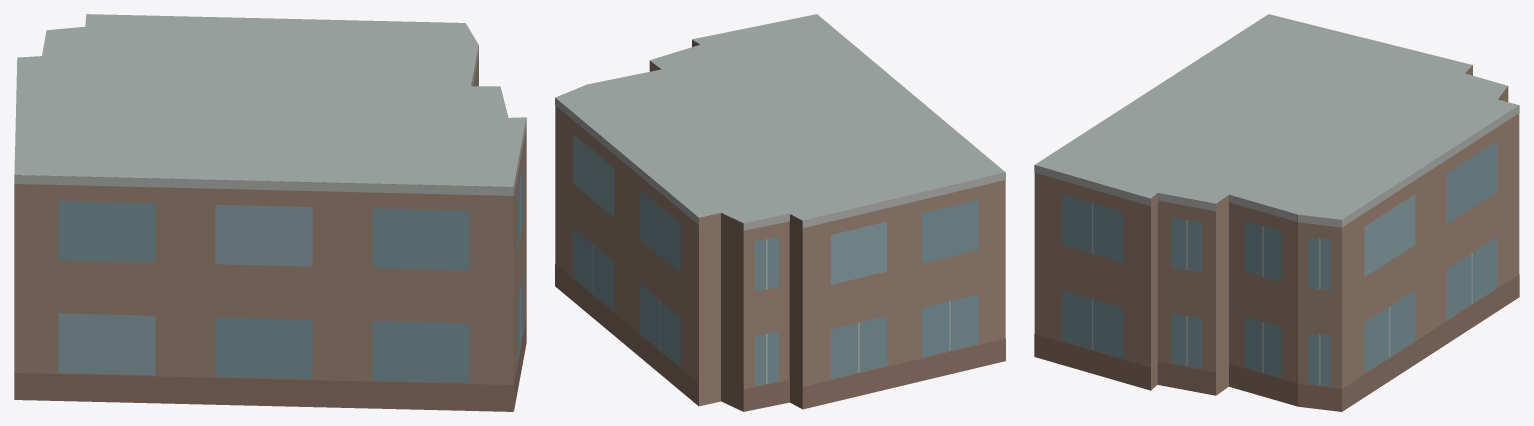
The model's file is survey-upis-32750424.glb.
The picture shows the model from 3 angles, left to right: view 1: azimuth 30°, elevation 25°; view 2: azimuth 150°, elevation 25°; view 3: azimuth 270°, elevation 25°; orthographic projection. The views are drawn at different scales.
Visible parts, largest first — view 1: survey-upis-32750424.tmp; view 2: survey-upis-32750424.tmp; view 3: survey-upis-32750424.tmp.
Boxes of the visible parts, x1,y1,x2,y2 form: survey-upis-32750424.tmp: (14,14,526,411); survey-upis-32750424.tmp: (555,14,1005,411); survey-upis-32750424.tmp: (1034,14,1519,411).
Bounding box in the file's own units: 14.04 × 6.1 × 13.97.
